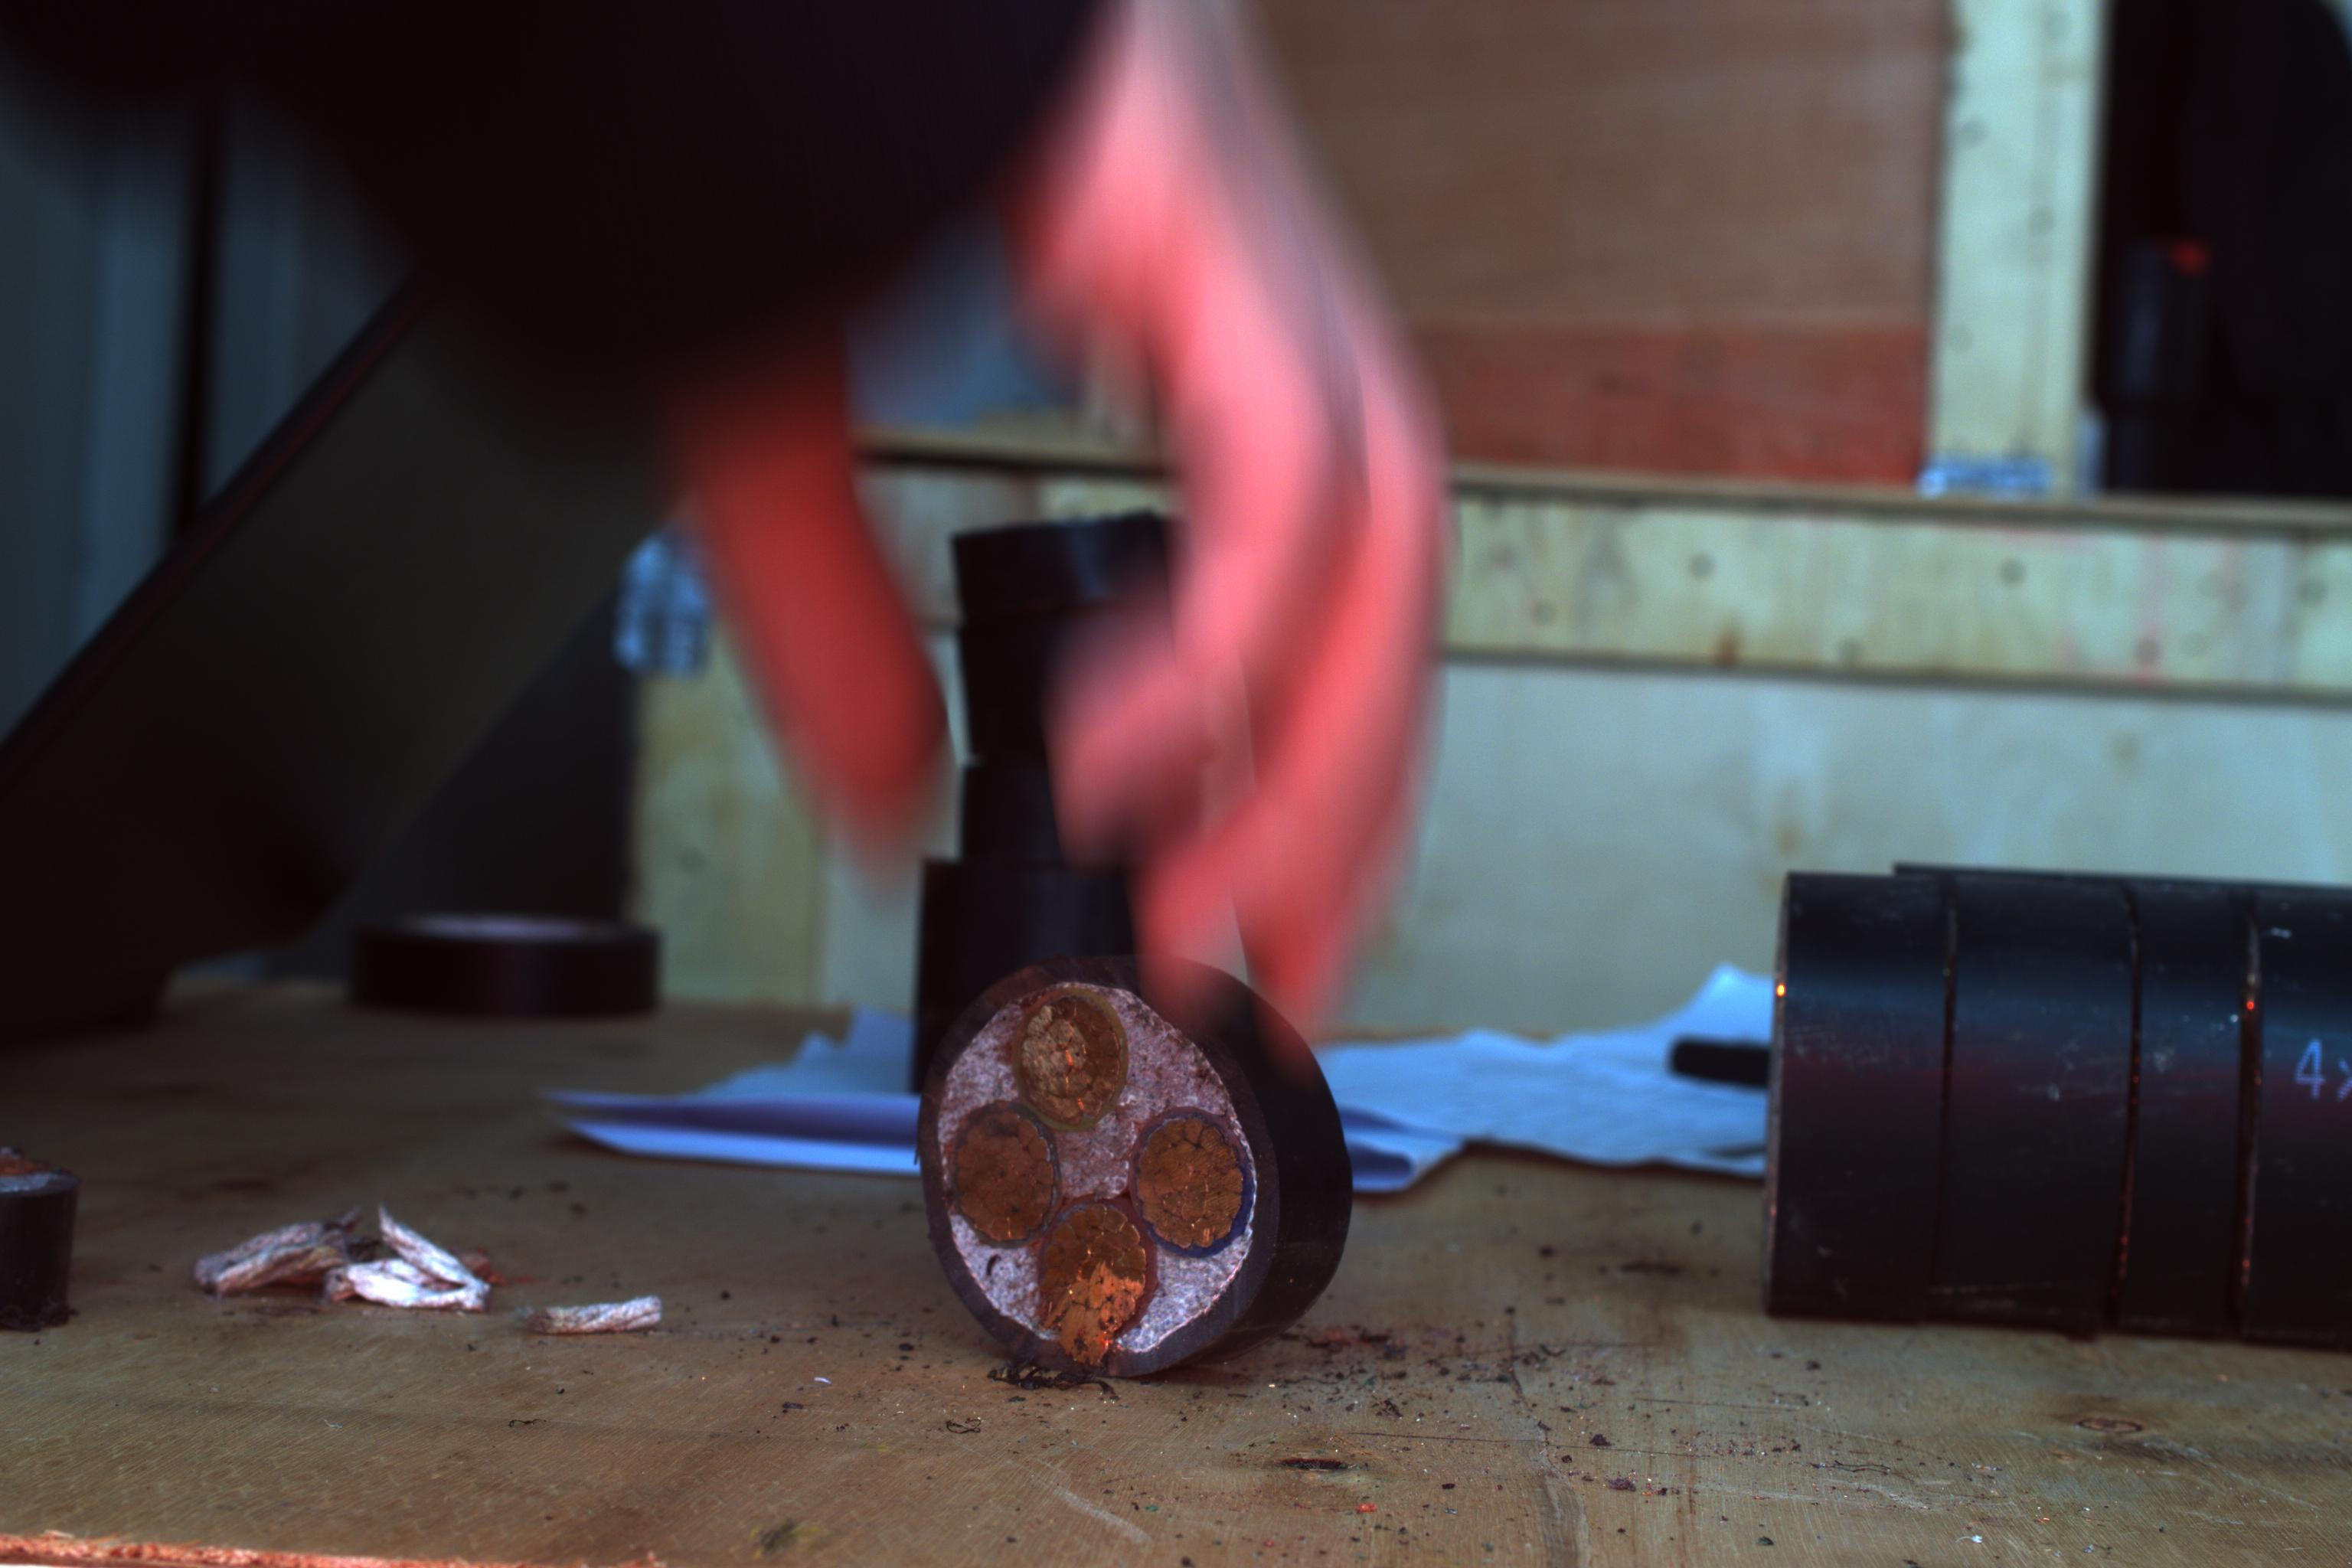YJV_0.6_1kV_4x120: (926, 962, 1295, 1360)
